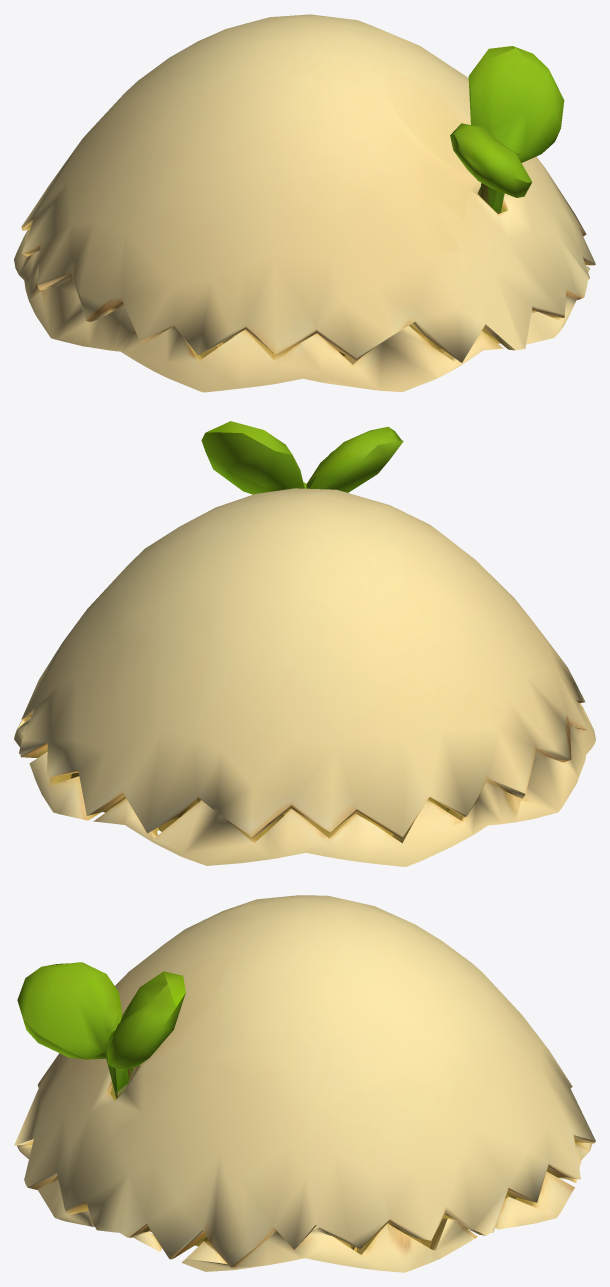
The model's file is egg_top.fbx.
3 views of the same model, one above another, from view 1: azimuth 30°, elevation 25°; view 2: azimuth 150°, elevation 25°; view 3: azimuth 270°, elevation 25° (orthographic).
Parts seen in each view (by area): view 1: EggTop; view 2: EggTop; view 3: EggTop.
Part boxes in pixels (bbox=[...]): EggTop: bbox=[14, 14, 595, 392]; EggTop: bbox=[14, 421, 595, 866]; EggTop: bbox=[14, 895, 595, 1272].
Size of the model in its own units: 0.0834 by 0.0389 by 0.0843.
